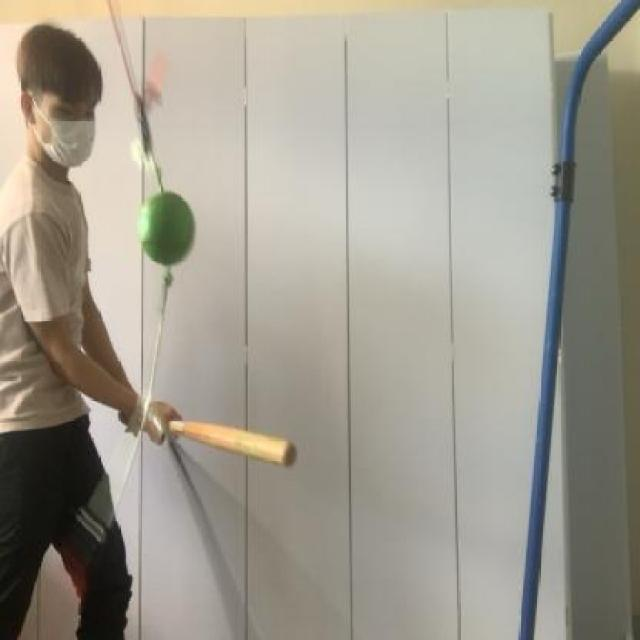baseball: (132, 188, 199, 272)
